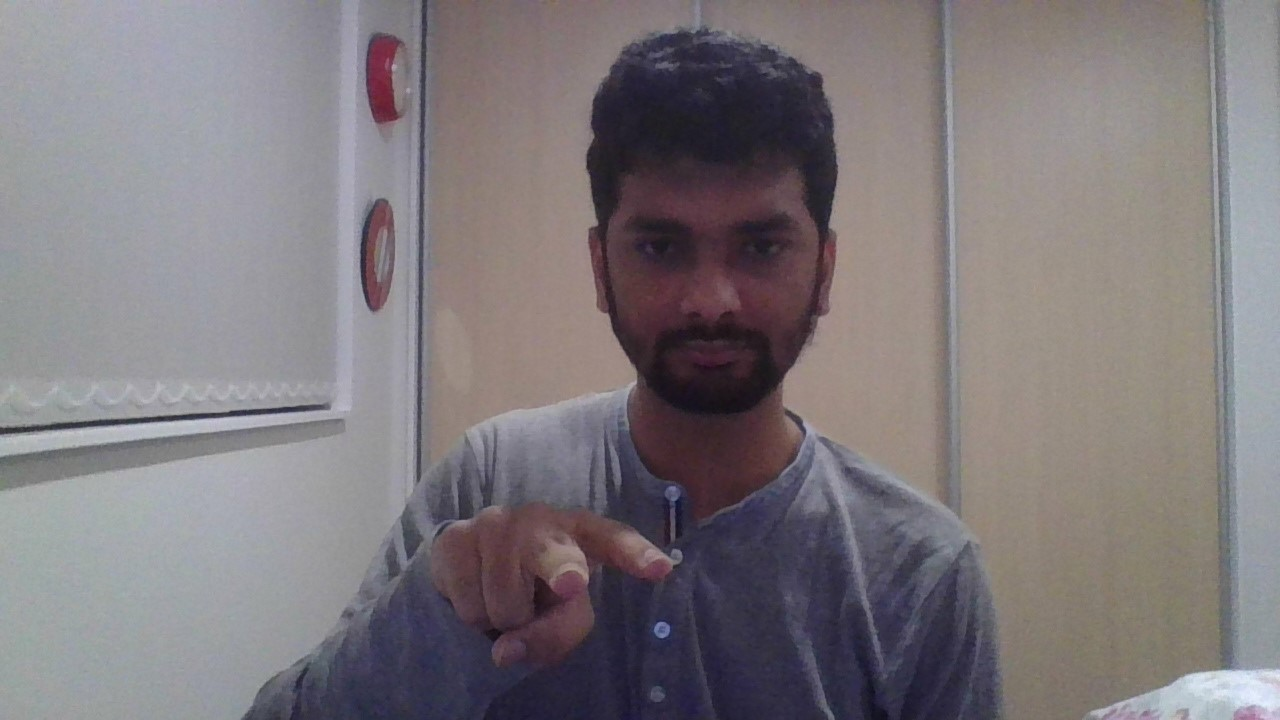look_around: (431, 501, 673, 666)
